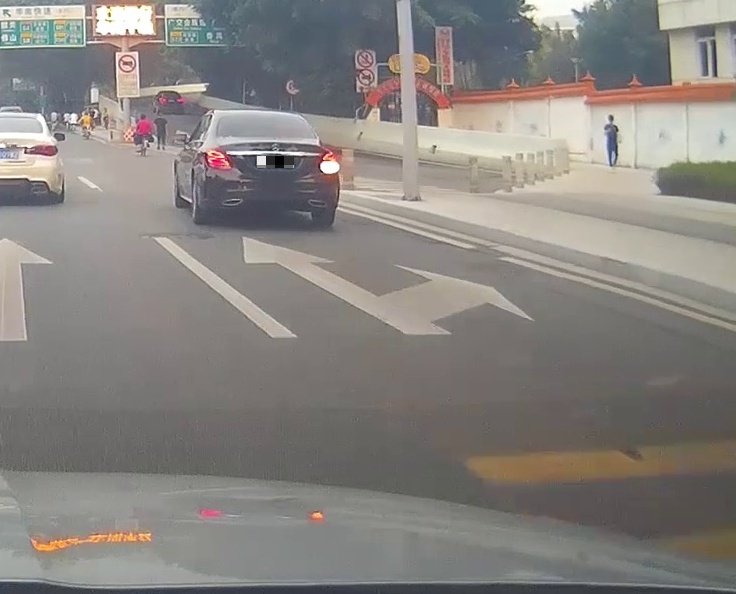L_light: (204, 150, 232, 170)
R_light: (320, 151, 339, 173)
T_light: (255, 114, 271, 119)
day-right: (203, 109, 340, 226)
plate_1: (257, 156, 294, 168)
